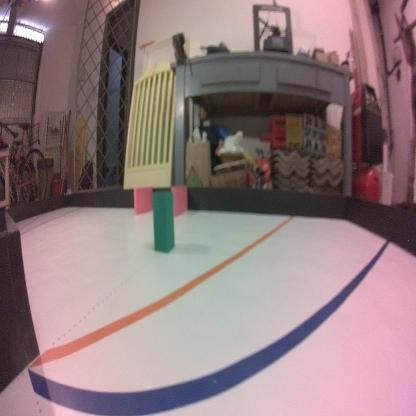green: (151, 190, 176, 254)
magenta: (172, 184, 189, 220), (134, 186, 154, 213)
